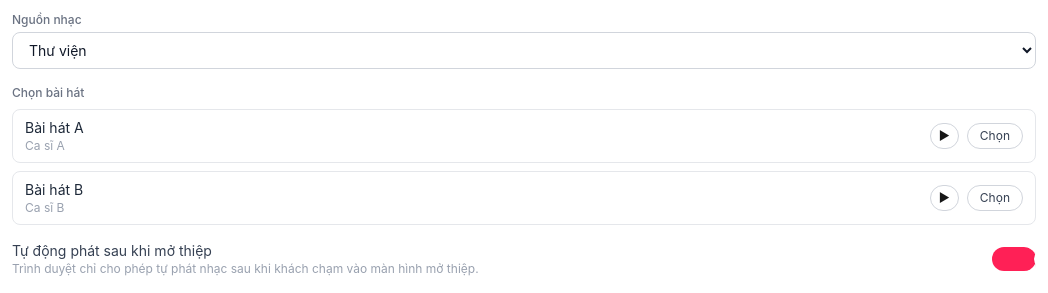
it: MusicPanel › playing a second preview track pauses the first (single shared <audio> element)
The width and height of the screenshot is (1048, 293).
Expected: the text "Bài hát A" is shown, [25,118,84,138]
Click the button named "Nghe thử Bài hát A" at [944, 136], box [930,123,959,149]
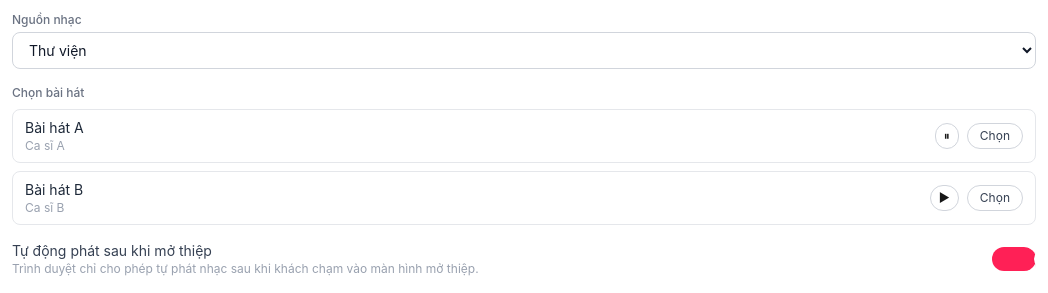
Now the button named "Tạm dừng Bài hát A" is shown, box [935,123,959,149]
Click the button named "Nghe thử Bài hát B" at [944, 198], box [930,185,959,211]
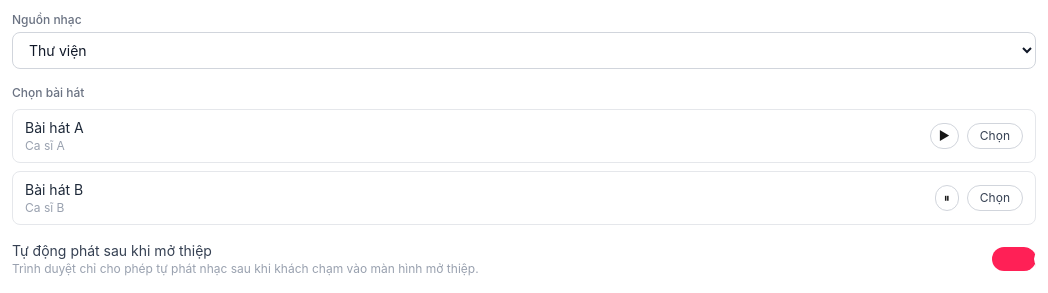
Now the button named "Tạm dừng Bài hát B" is shown, box [935,185,959,211]
Now the button named "Nghe thử Bài hát A" is shown, box [930,123,959,149]
